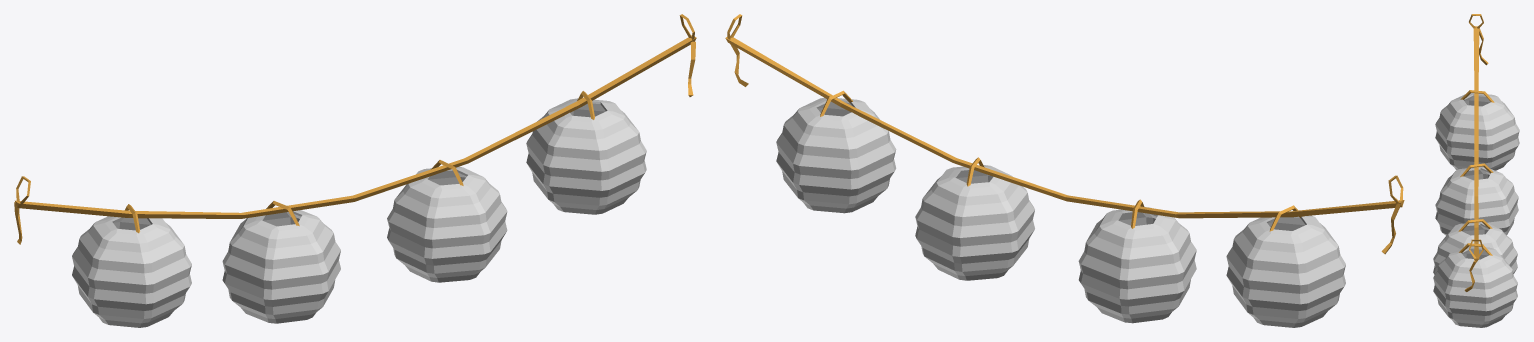
File: lanterns-on-string-2m.fbx
The picture shows the model from 3 angles, left to right: view 1: azimuth 30°, elevation 25°; view 2: azimuth 150°, elevation 25°; view 3: azimuth 270°, elevation 25°; orthographic projection. The views are drawn at different scales.
Parts seen in each view (by area): view 1: lanterns-on-string-2m; view 2: lanterns-on-string-2m; view 3: lanterns-on-string-2m.
Part boxes in pixels (box(x1,y1,x2,y2)): lanterns-on-string-2m: box(14, 14, 696, 327); lanterns-on-string-2m: box(725, 14, 1404, 327); lanterns-on-string-2m: box(1433, 14, 1519, 327).
Bounding box in the file's own units: 2 × 0.5604 × 0.3151.
